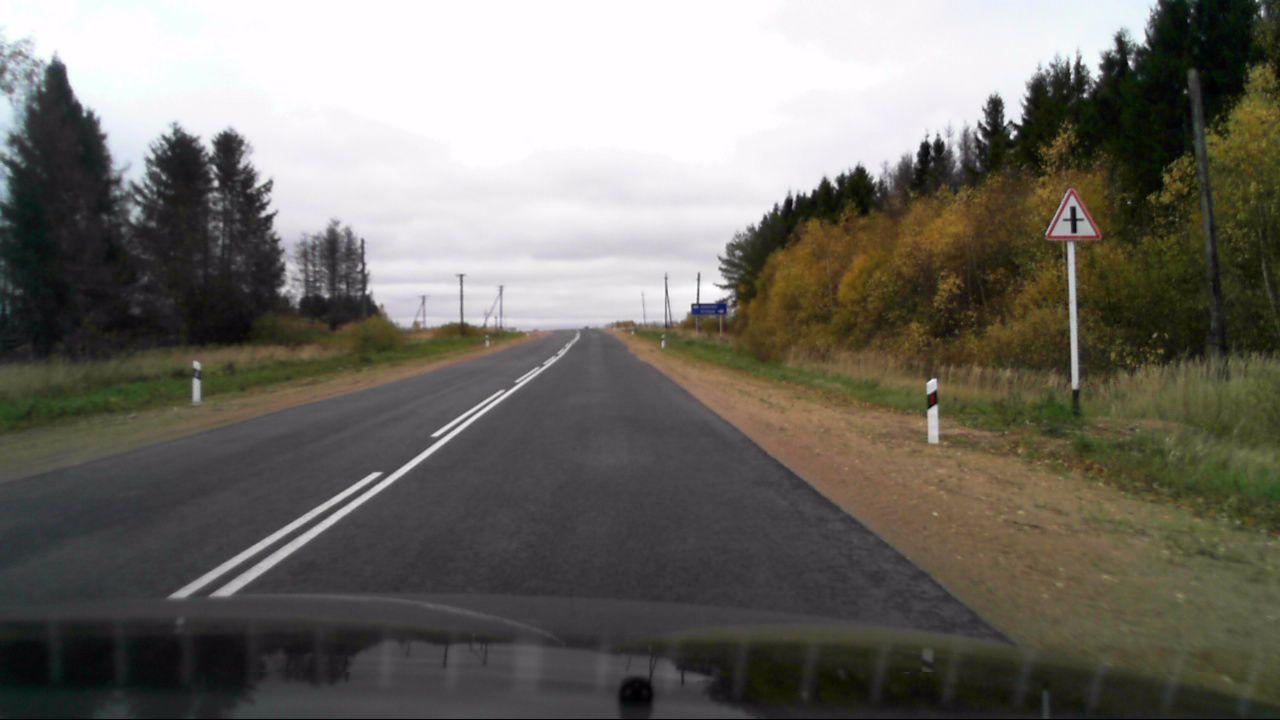2_3_1: (1042, 187, 1102, 240)
